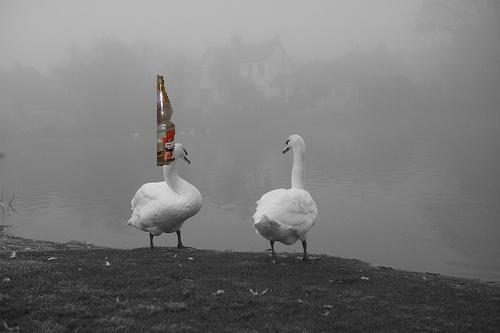tampered: (158, 76, 175, 166)
